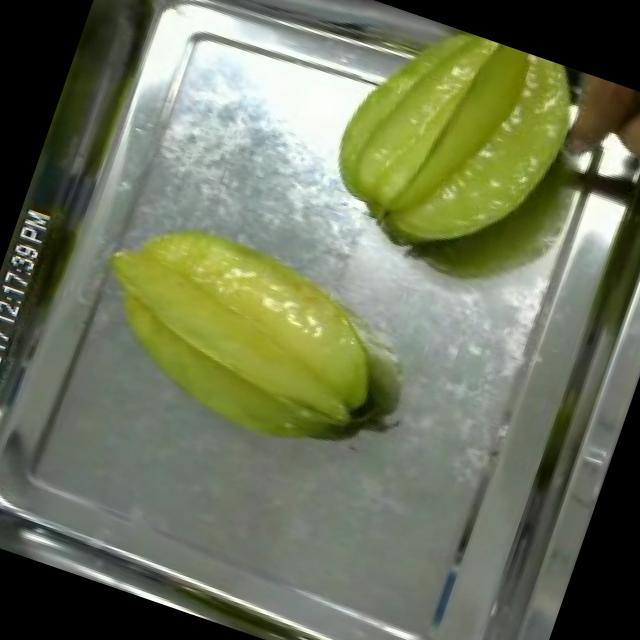fruit: (54, 190, 421, 486), (305, 2, 597, 294), (603, 87, 640, 188)
